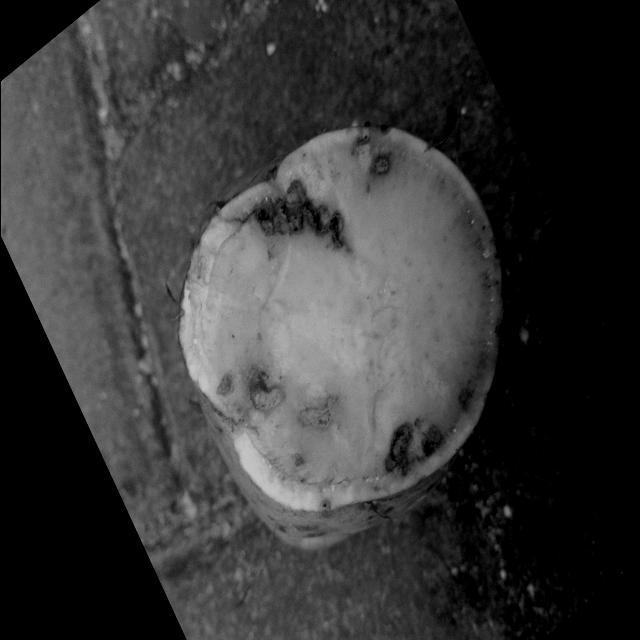Sick Sweet Potato_Tuber Rot: (178, 127, 502, 548)
